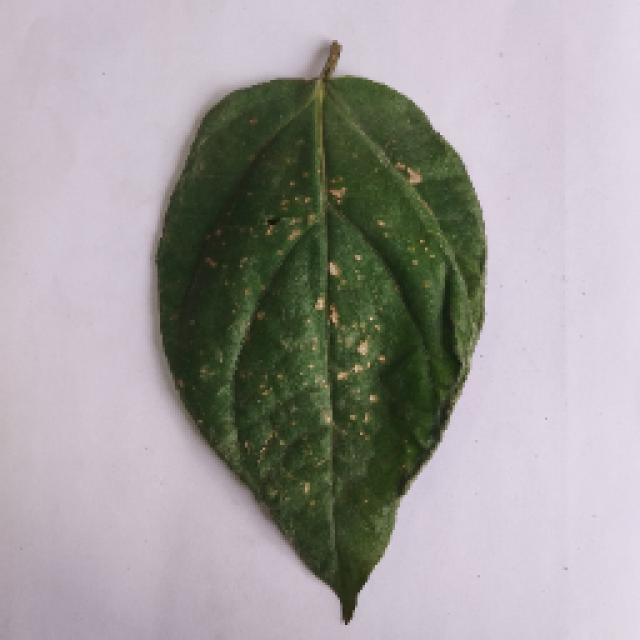pollu-disease: (150, 50, 488, 625)
